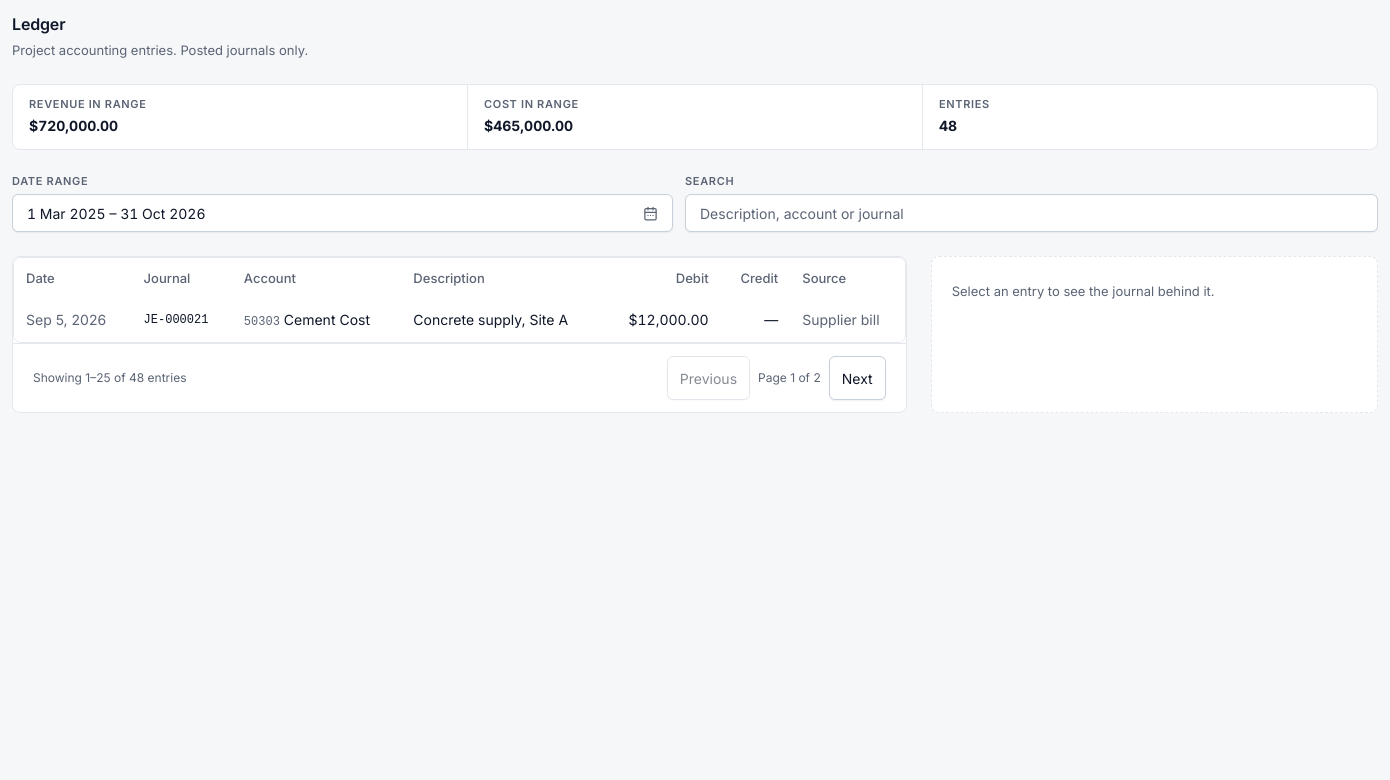
Test: LedgerView › opens the journal behind a row, showing only the attribution that exists
The width and height of the screenshot is (1390, 780).
Click the text "Concrete supply, Site A". click: (502, 320)
box: [401,298,603,342]
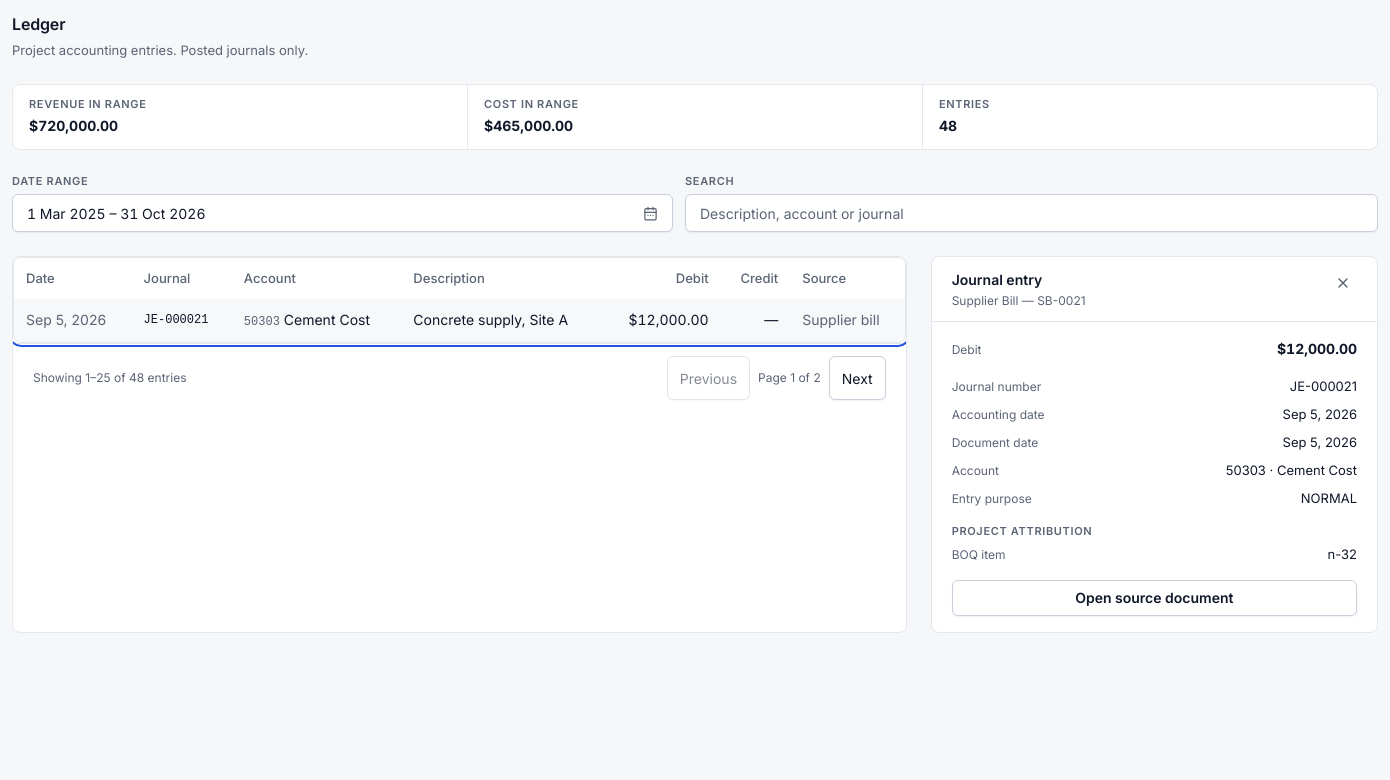
Expected: the heading "Journal entry" is shown, [952,271,1042,288]
Expected: the text "Project attribution" is shown, [952,524,1092,538]
Expected: the text "BOQ item" is shown, [952,547,1006,563]
